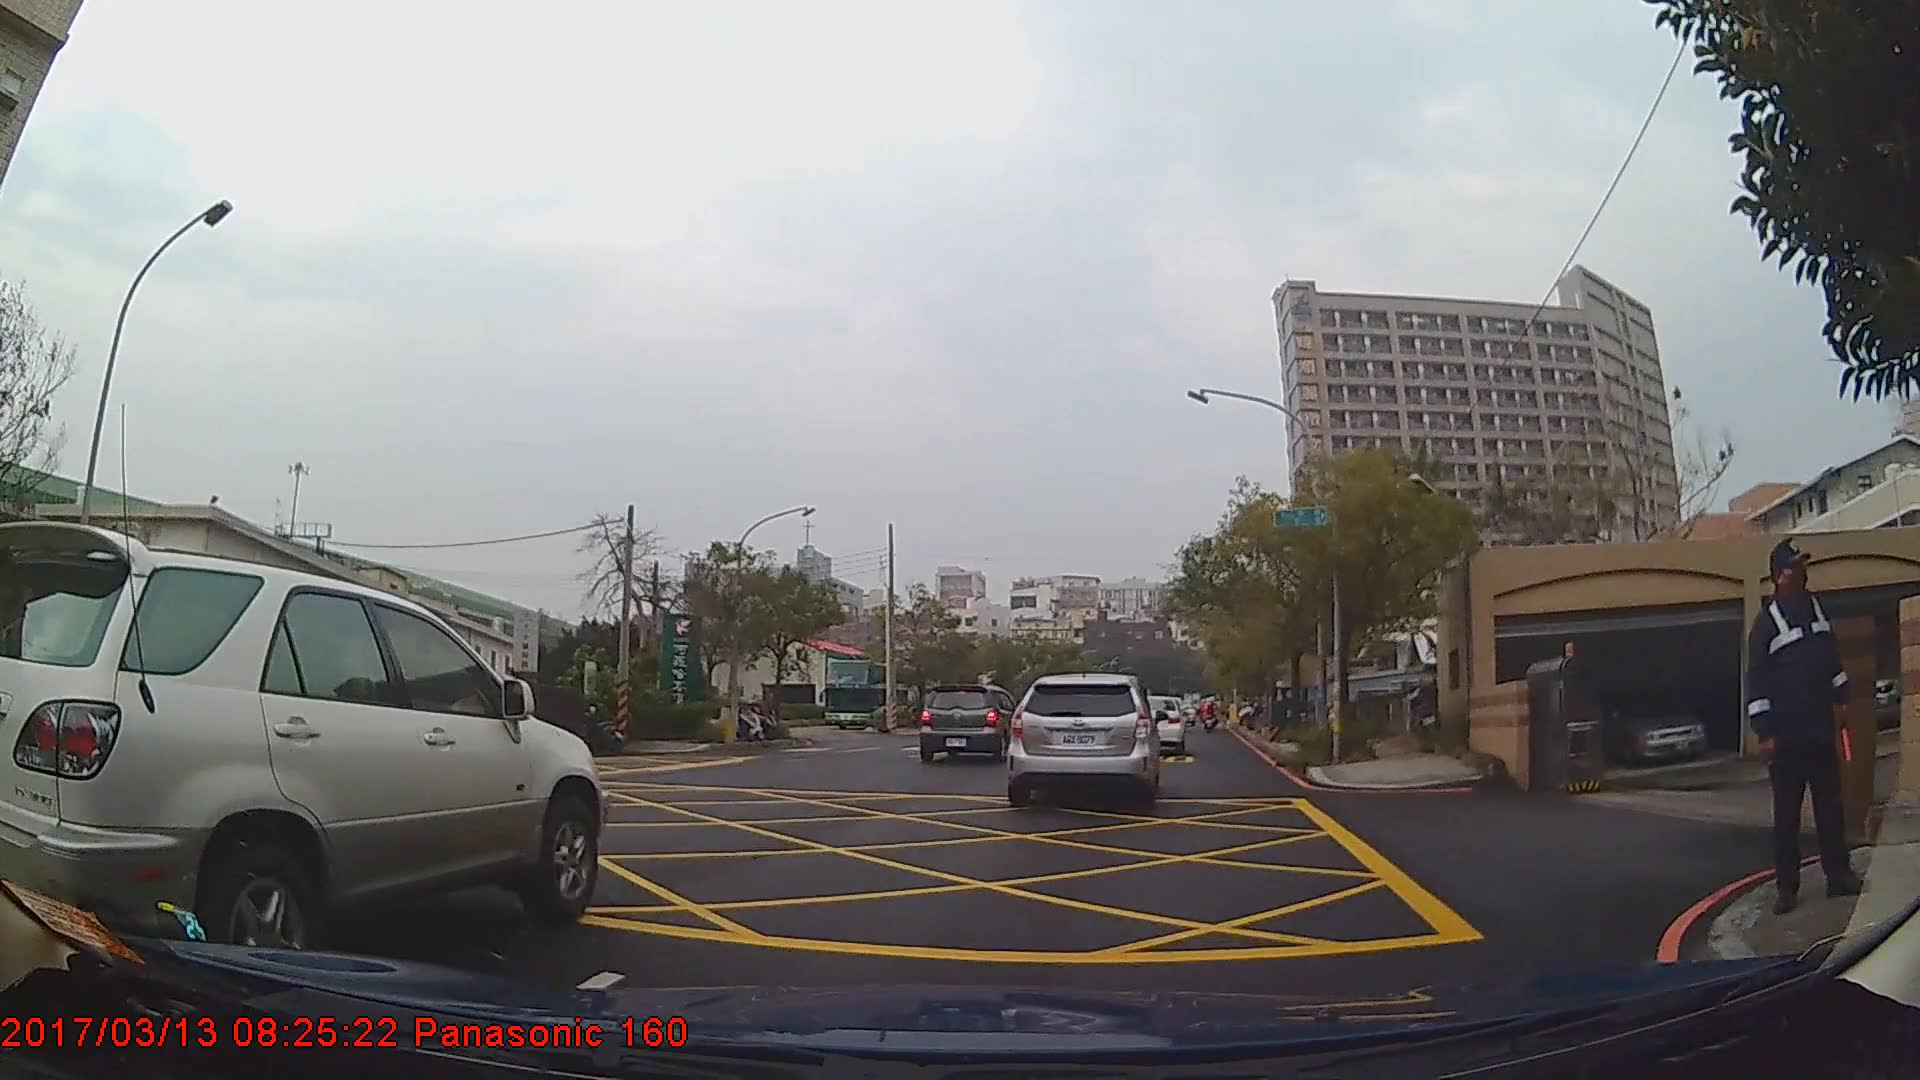pedestrian: (1746, 534, 1868, 926)
vehicle: (0, 515, 607, 989), (1005, 671, 1162, 810), (1595, 683, 1713, 762), (917, 680, 1021, 764), (821, 656, 922, 730), (1125, 692, 1188, 756)
